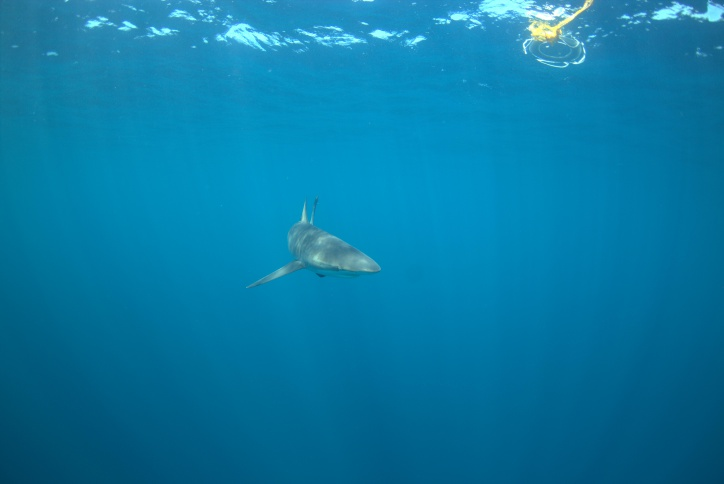Sedoso: (237, 187, 403, 299)
